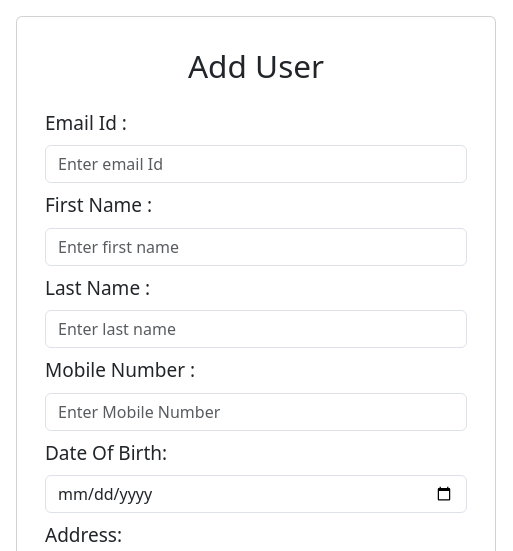
Validate the Mobile Number
The image size is (513, 551).
Type "334" into the field with placeholder "Enter Mobile Number".
click(256, 412); type("334")  # box [45, 393, 467, 431]
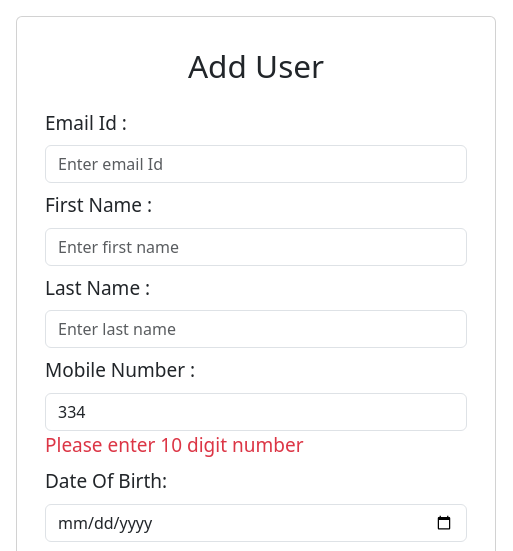
Result: the text "Please enter 10 digit number" is shown at [45, 432, 304, 458]
